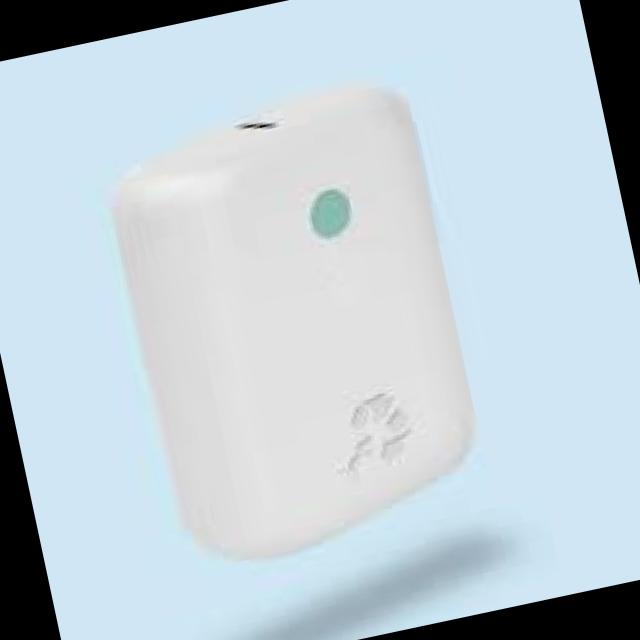portable-charger: (95, 70, 505, 580)
